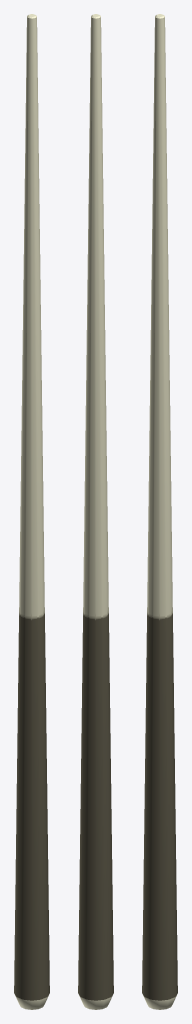
Rendered from Cue.FBX.
The picture shows the model from 3 angles, left to right: view 1: azimuth 30°, elevation 25°; view 2: azimuth 210°, elevation 25°; view 3: azimuth 330°, elevation 25°; orthographic projection.
Parts seen in each view (by area): view 1: CueStick; view 2: CueStick; view 3: CueStick.
Part boxes in pixels (x1=…): CueStick: x1=14, y1=14, x2=49, y2=1009; CueStick: x1=78, y1=14, x2=113, y2=1009; CueStick: x1=142, y1=14, x2=177, y2=1009.
Size of the model in its own units: 34.13 by 1043 by 34.13.
